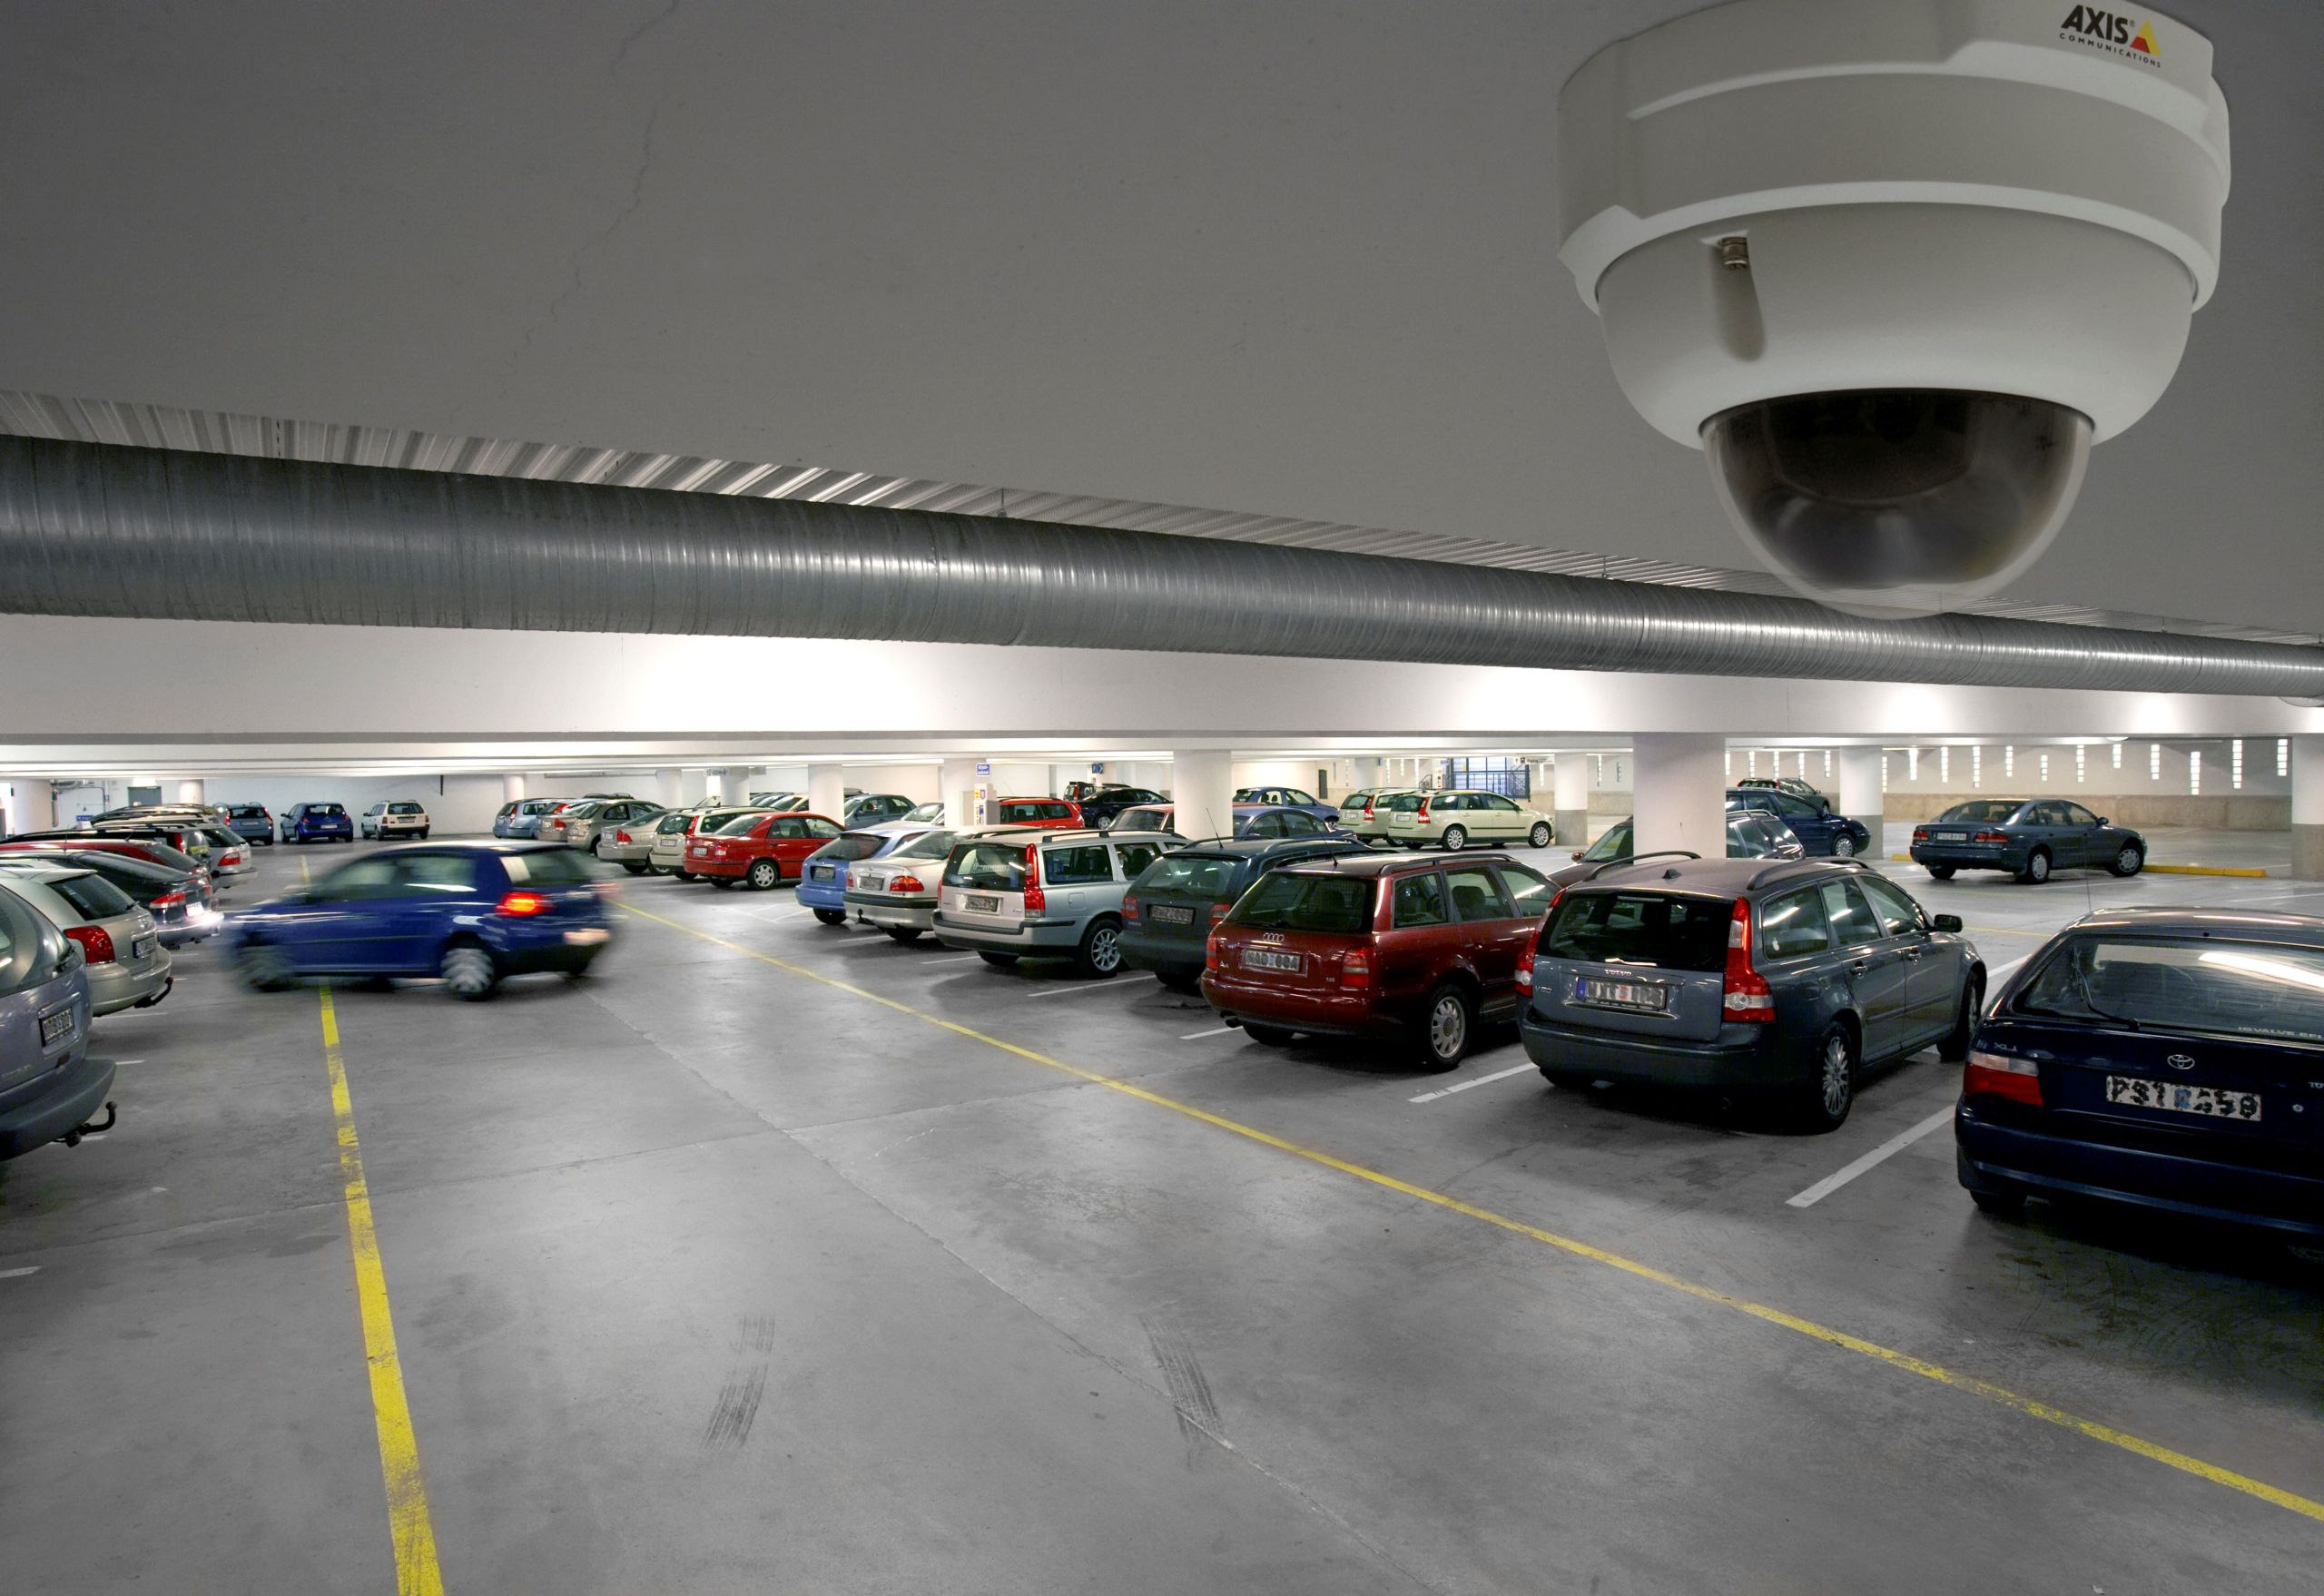Car: (1955, 906, 2324, 1248), (1519, 860, 1987, 1130), (1204, 851, 1554, 1068), (228, 842, 615, 999), (1123, 837, 1374, 989), (932, 830, 1185, 976), (0, 883, 115, 1160), (0, 860, 173, 1015), (0, 847, 219, 946), (844, 826, 1031, 941), (1543, 810, 1808, 888), (1911, 798, 2144, 883), (0, 824, 221, 892), (798, 823, 931, 923), (0, 837, 214, 899), (683, 812, 841, 890), (1725, 786, 1872, 856), (1388, 789, 1554, 849), (650, 805, 766, 876), (597, 807, 703, 872), (567, 800, 662, 851), (189, 823, 260, 890), (1339, 786, 1422, 842), (1070, 786, 1174, 828), (1233, 787, 1340, 828), (1233, 807, 1358, 840), (493, 798, 576, 839), (1738, 775, 1830, 810), (535, 798, 607, 842), (996, 796, 1086, 830), (283, 802, 355, 842), (214, 802, 275, 844), (844, 794, 917, 830), (362, 802, 431, 839), (90, 807, 210, 826), (768, 789, 869, 812), (1104, 803, 1174, 833), (874, 800, 945, 826), (94, 805, 212, 819), (92, 814, 221, 826), (1063, 782, 1128, 802), (749, 793, 796, 807)
